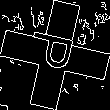P_E: (27, 31, 83, 79)
